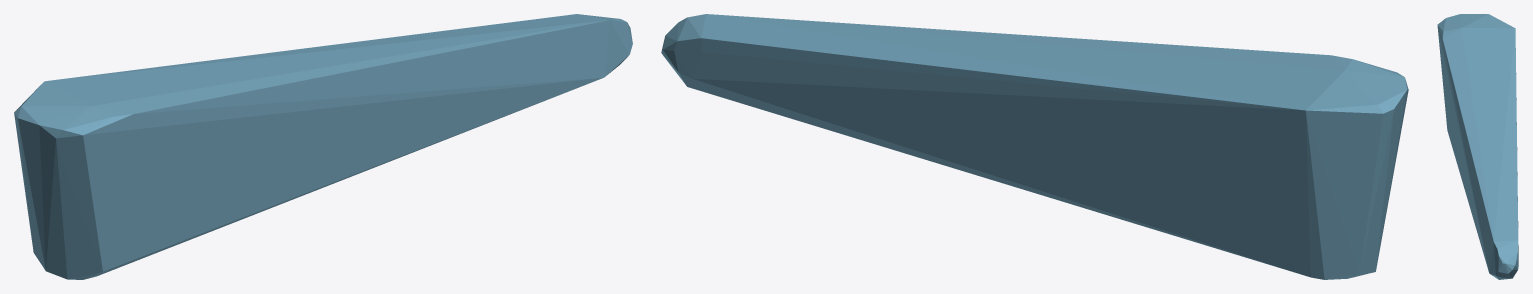
File: instrument_bone_mallet_b01.glb
3 views of the same model, side by side, from view 1: azimuth 30°, elevation 25°; view 2: azimuth 150°, elevation 25°; view 3: azimuth 270°, elevation 25° (orthographic). The views are drawn at different scales.
Visible parts, largest first — view 1: geometry_0; view 2: geometry_0; view 3: geometry_0.
Boxes of the visible parts, x1=… form: geometry_0: x1=14, y1=14, x2=632, y2=279; geometry_0: x1=661, y1=14, x2=1408, y2=279; geometry_0: x1=1437, y1=14, x2=1518, y2=279.
Bounding box in the file's own units: 0.4785 × 0.1264 × 0.082.
